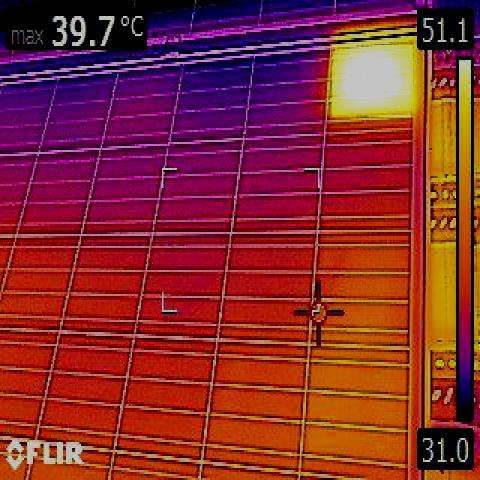fault: (332, 46, 413, 118)
